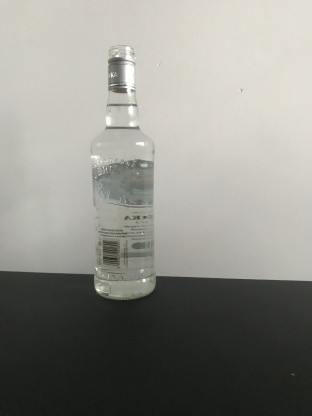nakretka: (105, 43, 137, 94)
